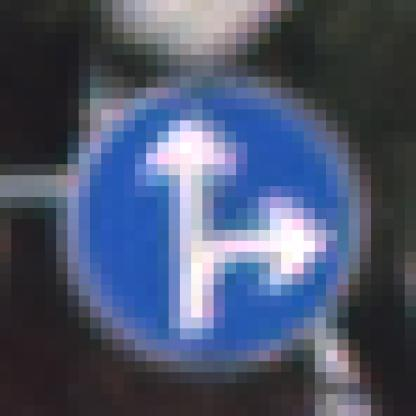Straight or Right: (57, 56, 361, 351)
